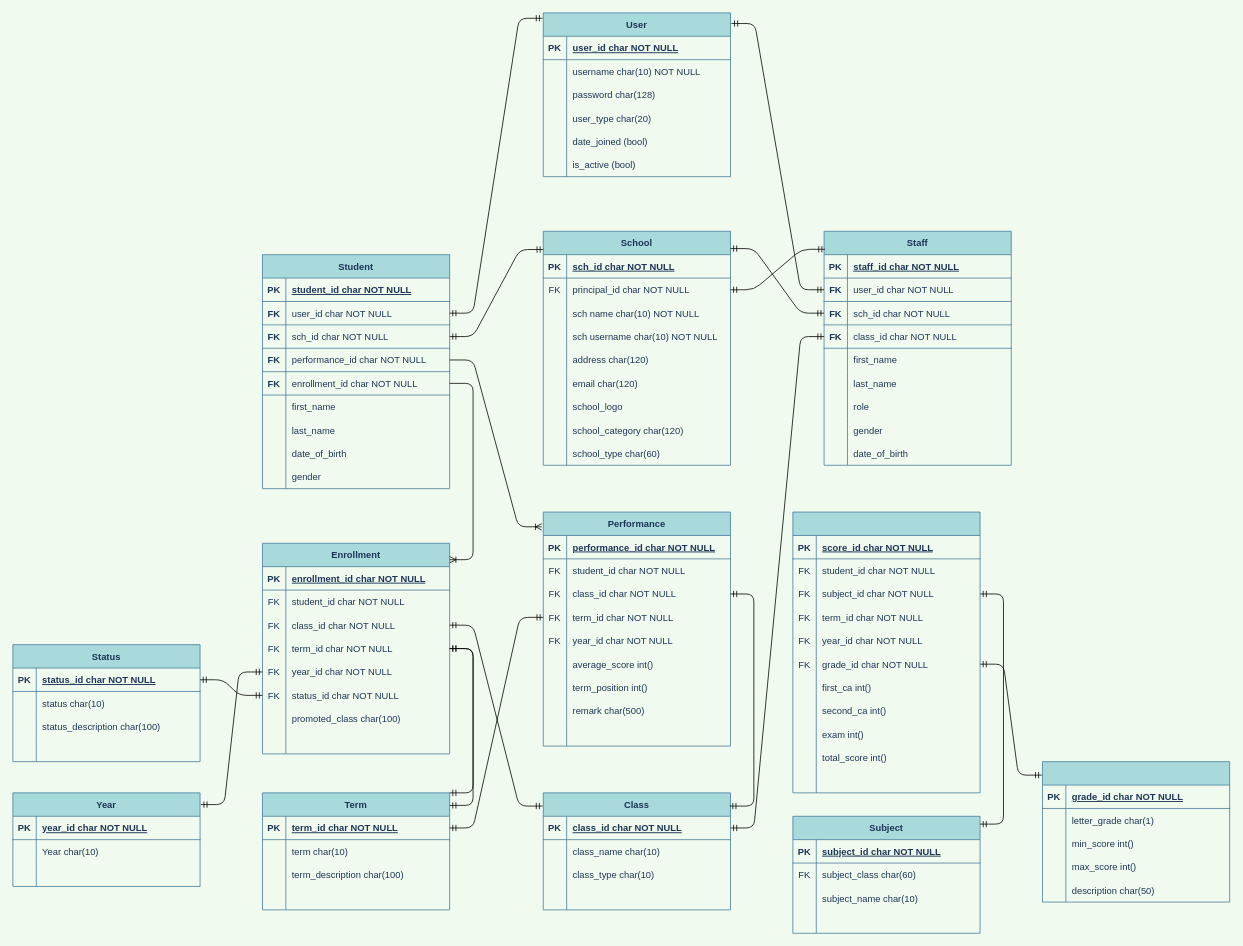
The diagram is 1243 pixels wide and 946 high, and some of its shapes have lost their labels. The shapes that lost their labels are listed below. From the top down, each one's box as (x1, y1, x2, y2) in pixels, then its label:
(792, 511, 980, 793): Student_Score
(1042, 761, 1230, 902): Grades
